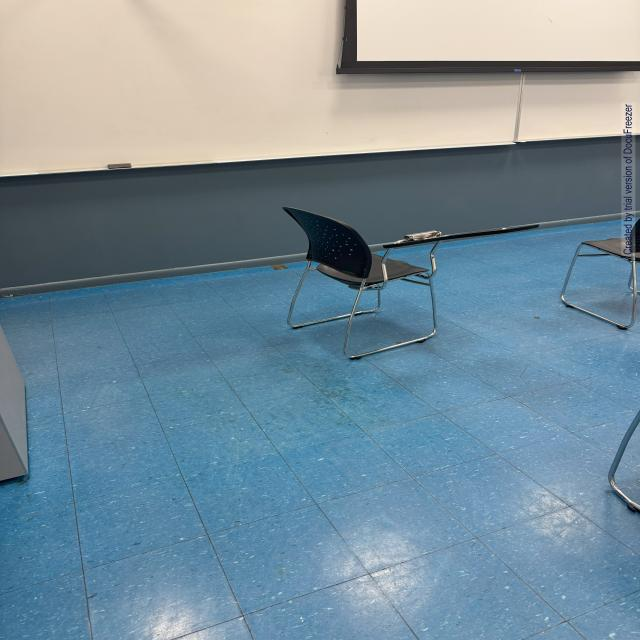chair: (275, 202, 468, 372)
